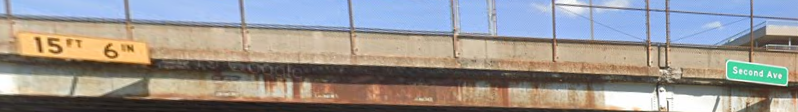1: (29, 33, 45, 56)
5: (42, 36, 67, 57)
6: (98, 38, 120, 65)
overheadsign: (14, 30, 150, 67)
